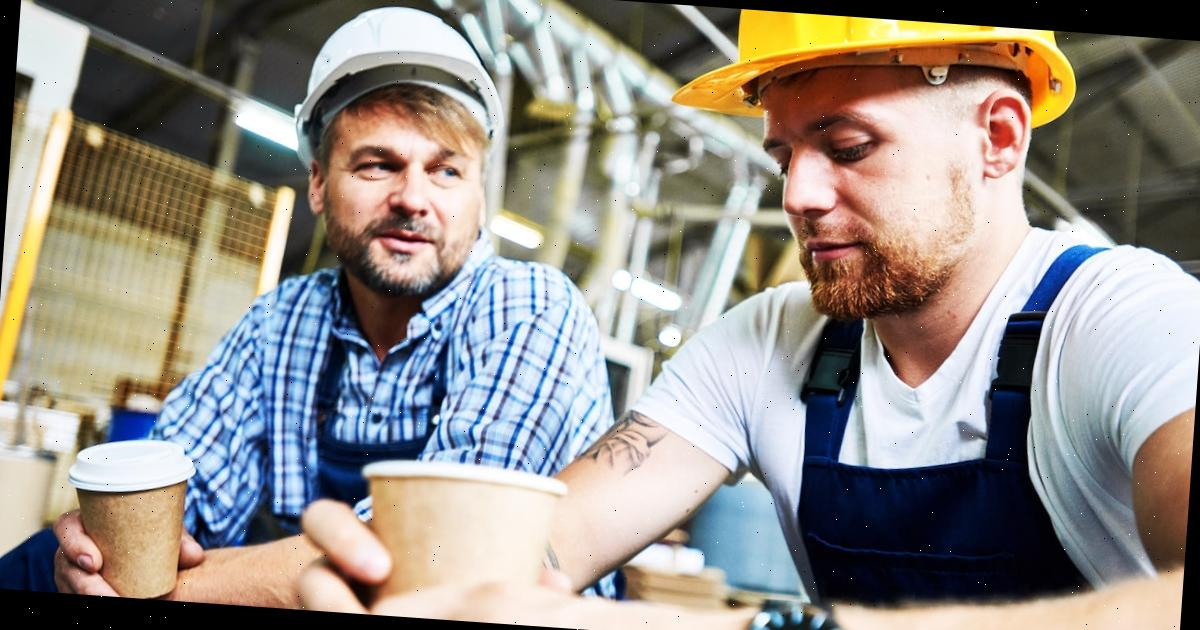helmet: (664, 4, 1086, 139), (286, 0, 511, 163)
no_wear: (735, 292, 1200, 630), (214, 272, 617, 630)
